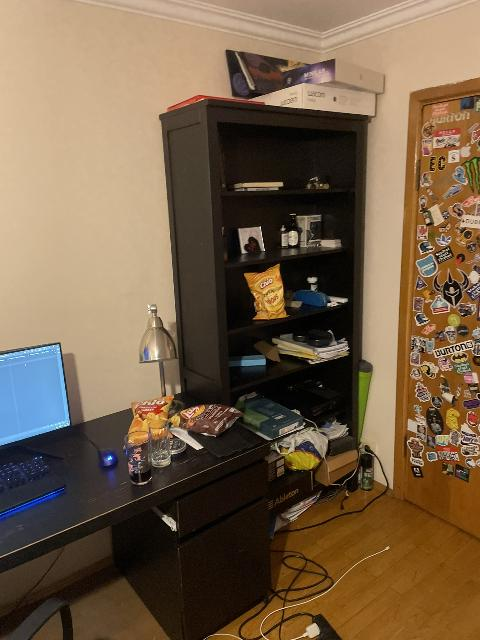Chio Cascaval 125g: (129, 393, 177, 443)
Chio Hula Hoops Cheese 70g: (244, 264, 289, 320)
Lays Beef Grilled Ribs 125g: (176, 404, 238, 436)
